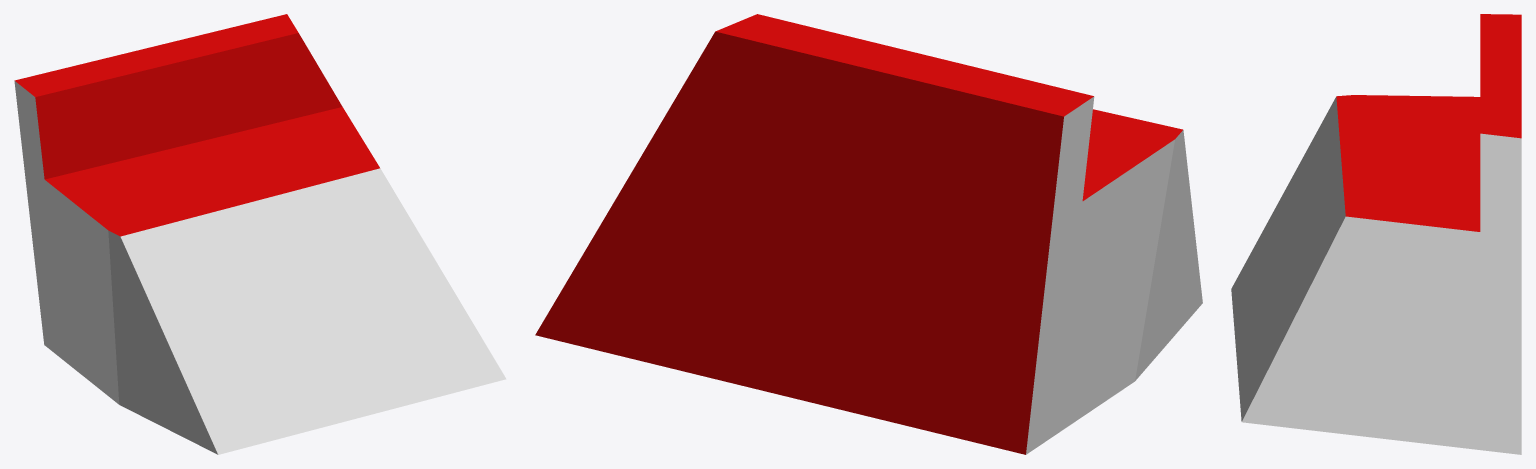
Rendered from mdl_ciudadela_pared_fracturepart14.fbx.
The picture shows the model from 3 angles, left to right: view 1: azimuth 30°, elevation 25°; view 2: azimuth 150°, elevation 25°; view 3: azimuth 270°, elevation 25°; orthographic projection. The views are drawn at different scales.
Parts seen in each view (by area): view 1: mdl_ciudadela_pared_fracturepart14; view 2: mdl_ciudadela_pared_fracturepart14; view 3: mdl_ciudadela_pared_fracturepart14.
Part boxes in pixels (left/top/right/bottom): mdl_ciudadela_pared_fracturepart14: left=14, top=14, right=506, bottom=454; mdl_ciudadela_pared_fracturepart14: left=535, top=14, right=1202, bottom=454; mdl_ciudadela_pared_fracturepart14: left=1231, top=14, right=1521, bottom=454.
Bounding box in the file's own units: 6.55 × 4.1 × 4.27.
